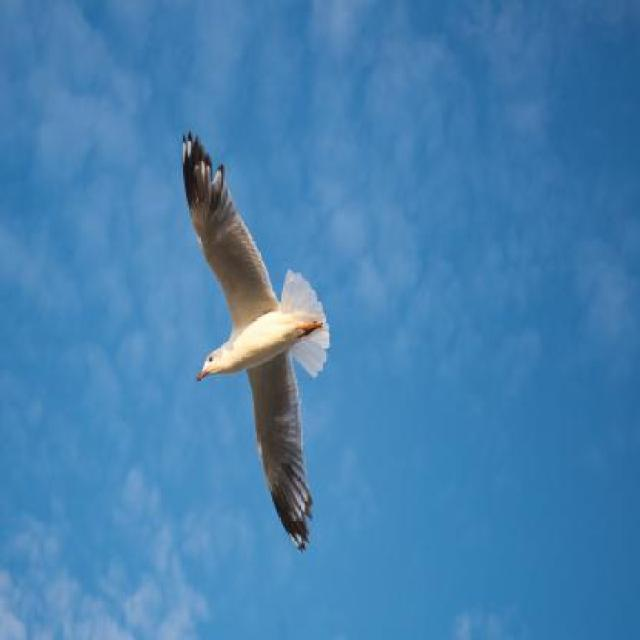bird: (182, 132, 329, 554)
